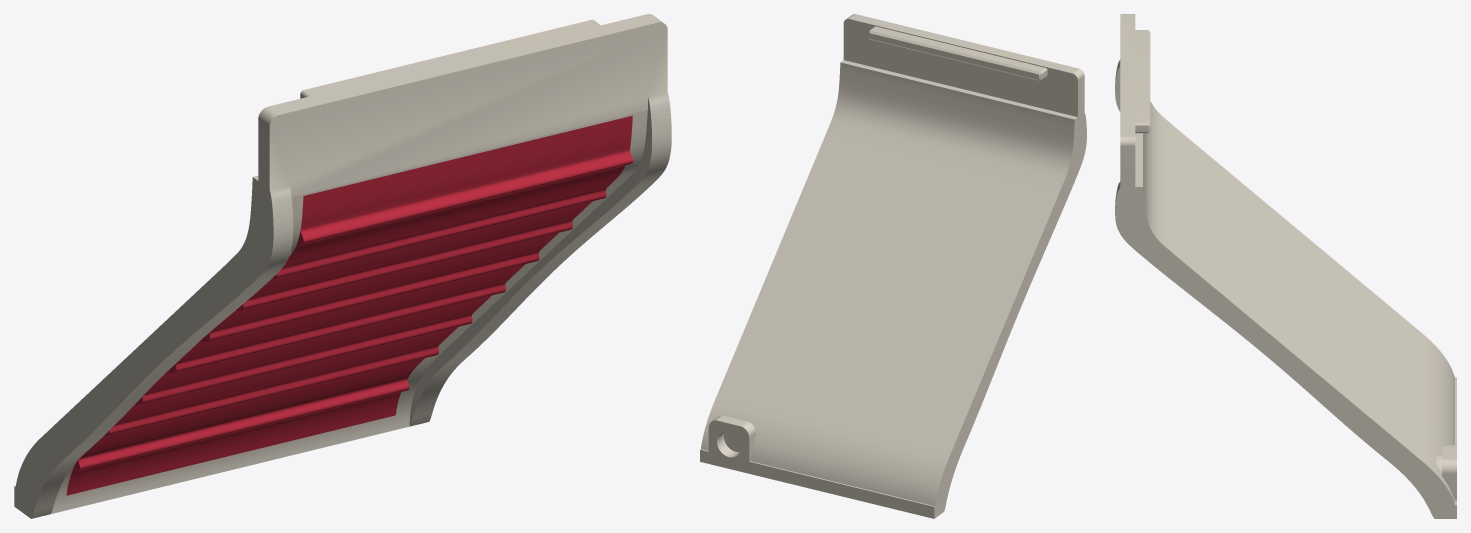
3 views of the same model, side by side, from view 1: azimuth 30°, elevation 25°; view 2: azimuth 150°, elevation 25°; view 3: azimuth 270°, elevation 25° (orthographic). The views are drawn at different scales.
Parts seen in each view (by area): view 1: G05_ChristmasRed, G05_Snow; view 2: G05_Snow; view 3: G05_Snow.
Boxes of the visible parts, <box> form: G05_ChristmasRed: <box>66,115,633,495</box>; G05_Snow: <box>14,14,671,518</box>; G05_Snow: <box>700,14,1086,518</box>; G05_Snow: <box>1115,14,1456,518</box>.
Bounding box in the file's own units: 81 × 112 × 91.42.
